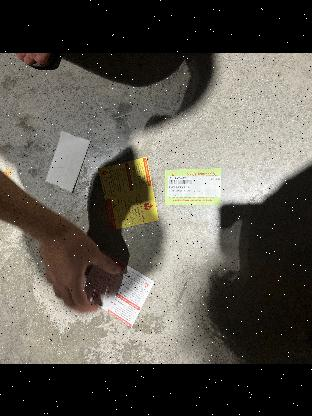Others: (74, 248, 152, 324), (94, 150, 161, 235), (159, 158, 227, 214), (44, 127, 92, 196)
